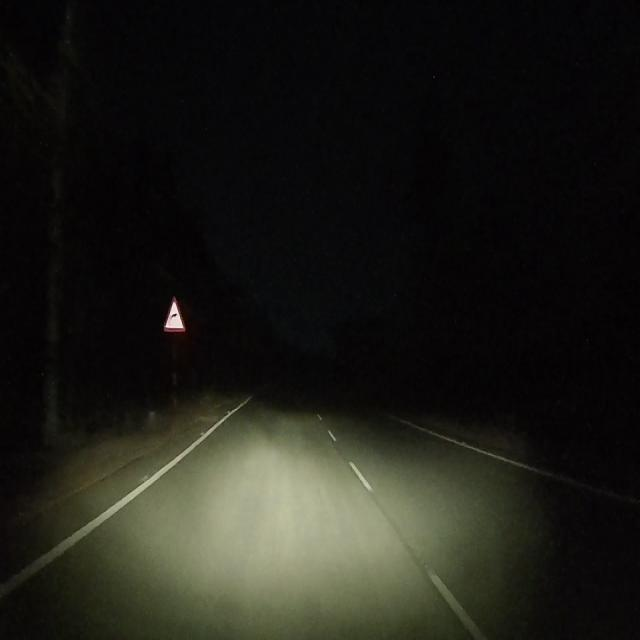right-hand-curve: (164, 290, 186, 337)
